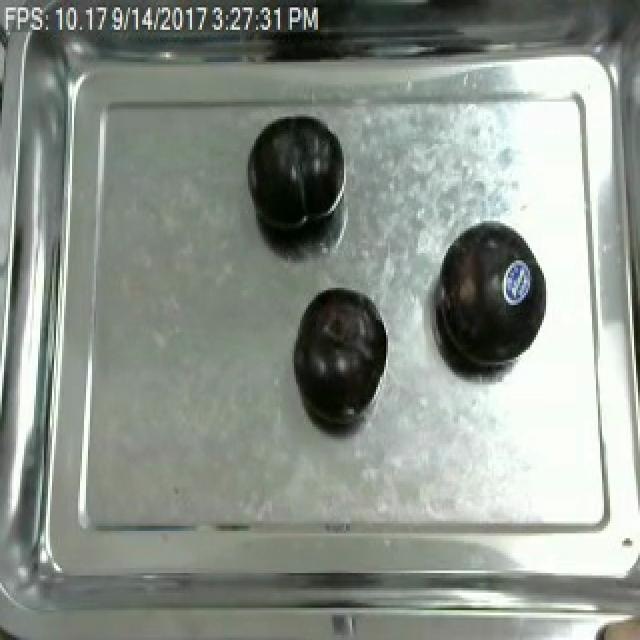Fruit: (432, 216, 554, 377), (288, 283, 390, 424), (242, 112, 346, 240), (584, 610, 640, 640)
